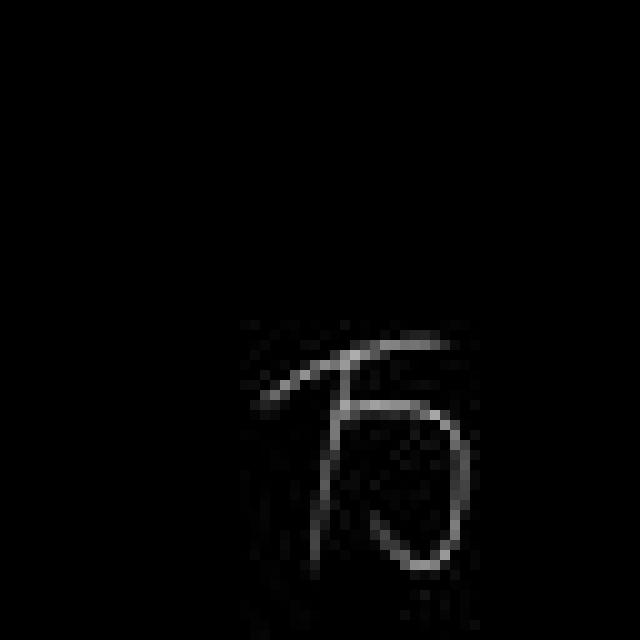10000 -a ten thousand-: (245, 310, 488, 595)
